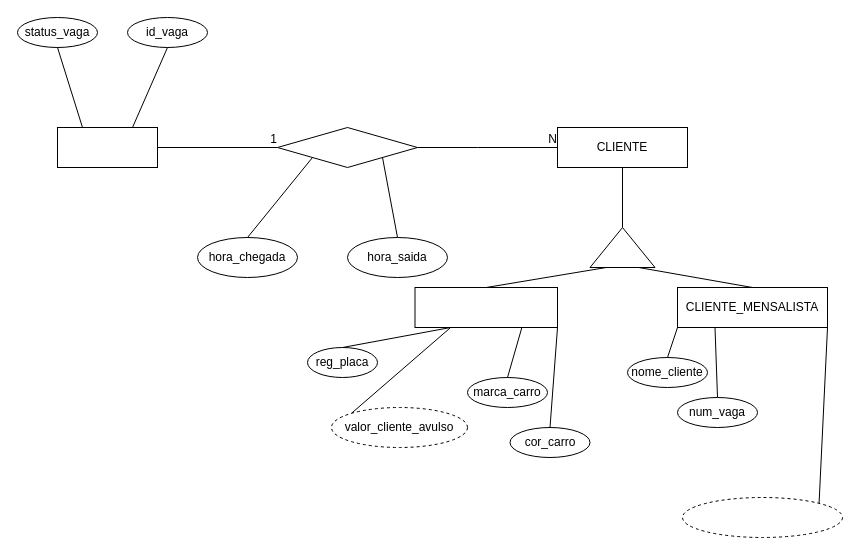
This 860x555 diagram has some shape labels left out. The centre of each missing label's shape, as x and y in pixels:
CLIENTE_ALEATORIO: (486,307)
ocupa: (347,147)
VAGA: (107,147)
valor_cliente_mensalista: (762,517)
